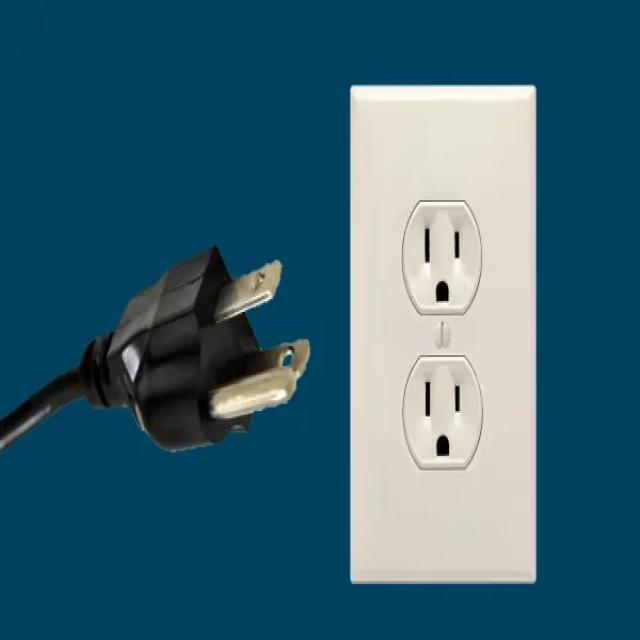type_b: (379, 346, 499, 487), (384, 200, 496, 323)
